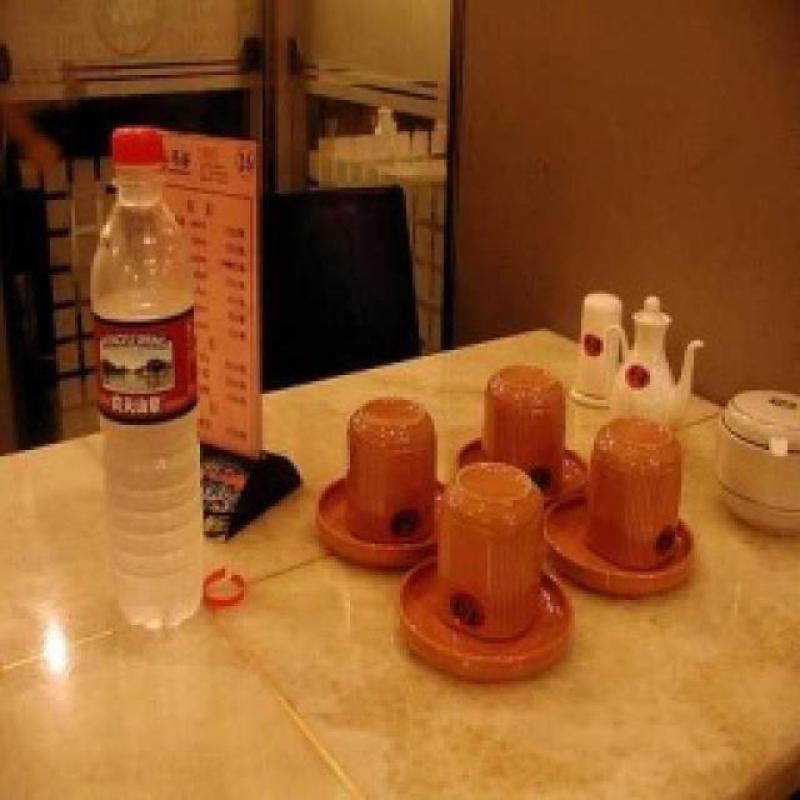botella: (84, 128, 206, 628)
